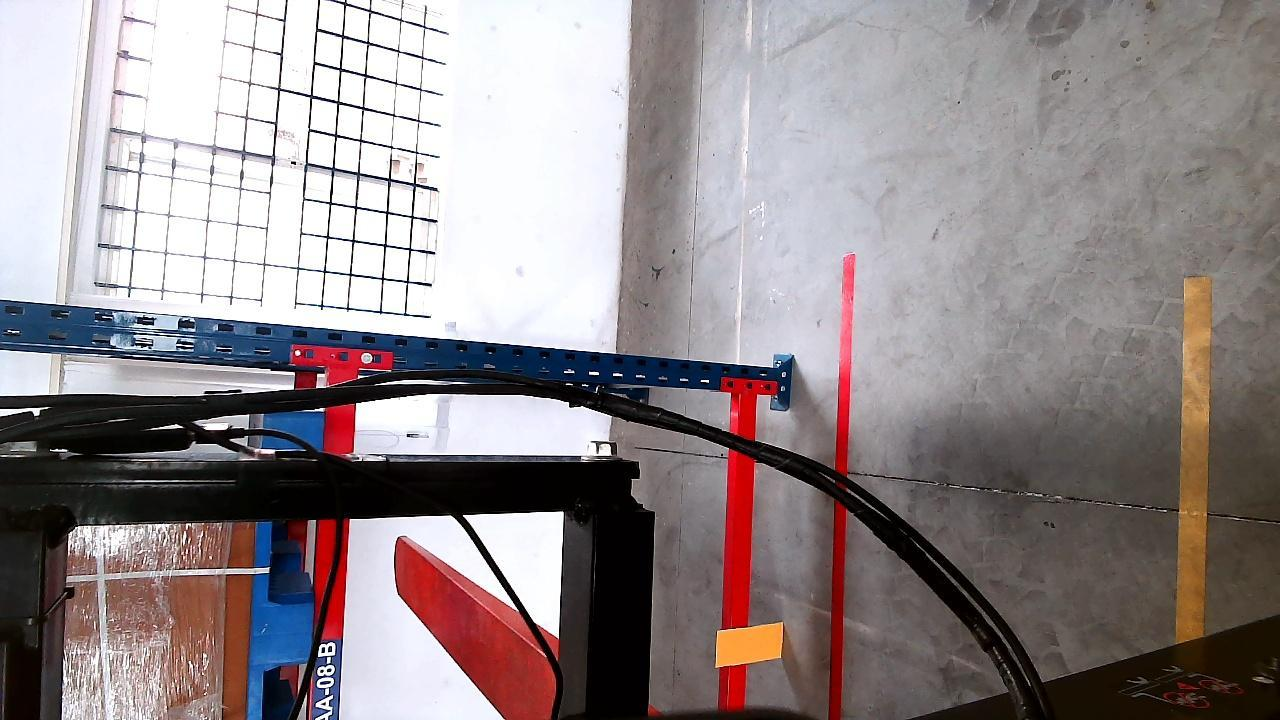red_line: (826, 253, 855, 720)
yellow_line: (1177, 274, 1212, 639)
